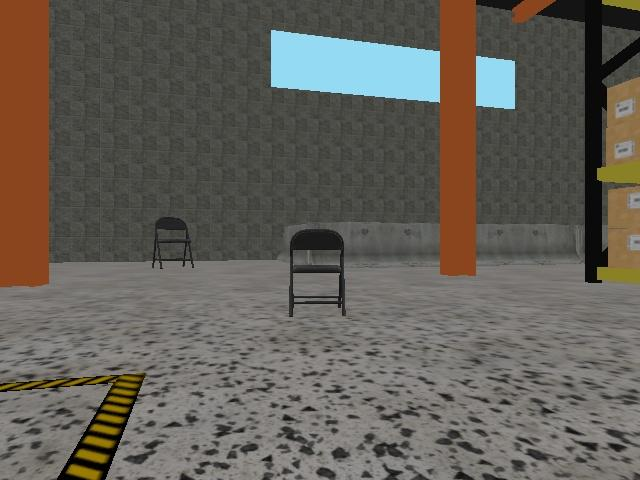chair: (287, 228, 347, 318), (150, 216, 196, 271)
